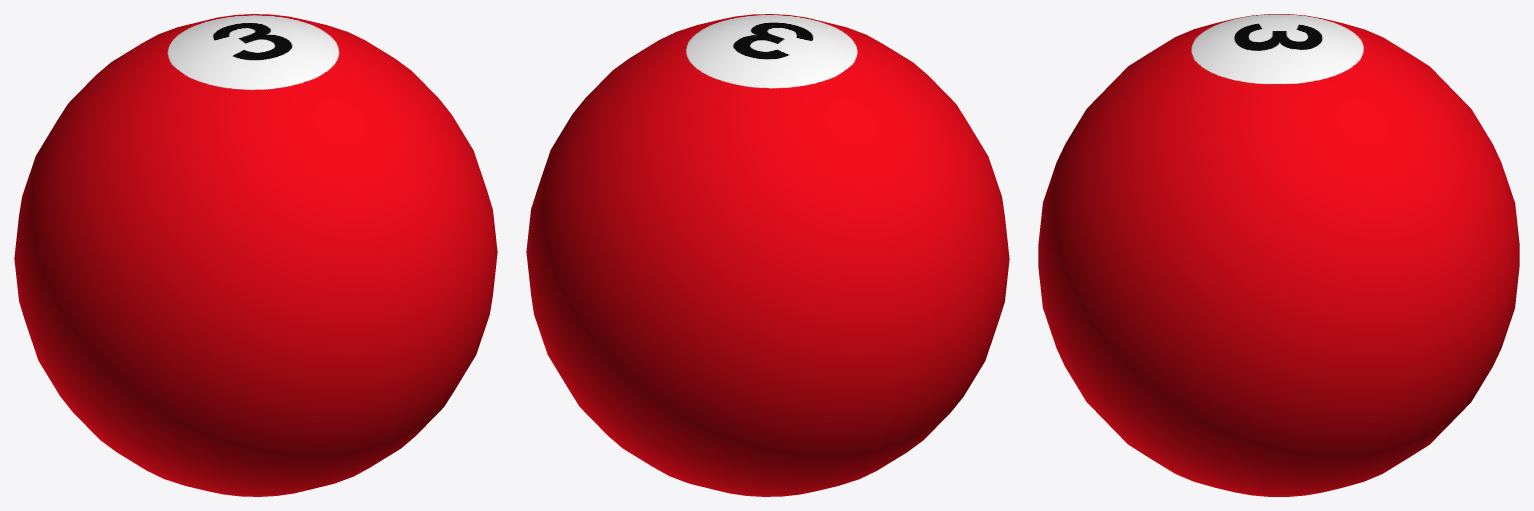
The model's file is 3Ball.glb.
3 renders of one model, left to right at view 1: azimuth 30°, elevation 25°; view 2: azimuth 150°, elevation 25°; view 3: azimuth 270°, elevation 25°, orthographic.
Visible parts, largest first — view 1: SphereSolid; view 2: SphereSolid; view 3: SphereSolid.
Boxes of the visible parts, bbox=[...] form: SphereSolid: bbox=[14, 14, 497, 496]; SphereSolid: bbox=[526, 14, 1009, 496]; SphereSolid: bbox=[1038, 14, 1519, 496].
Size of the model in its own units: 0.1991 by 0.2 by 0.1991.
Materials: 1 (1 with a texture image).
